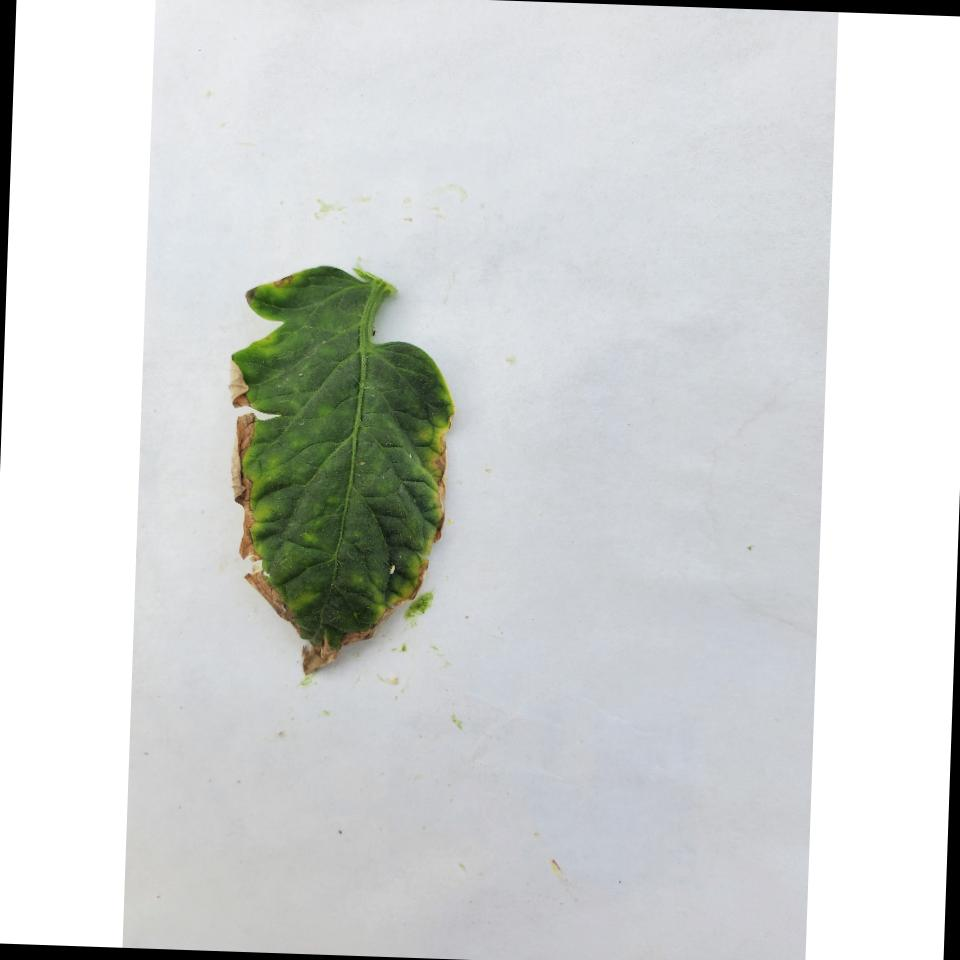tomato_bacterial_blight: (218, 240, 453, 674)
